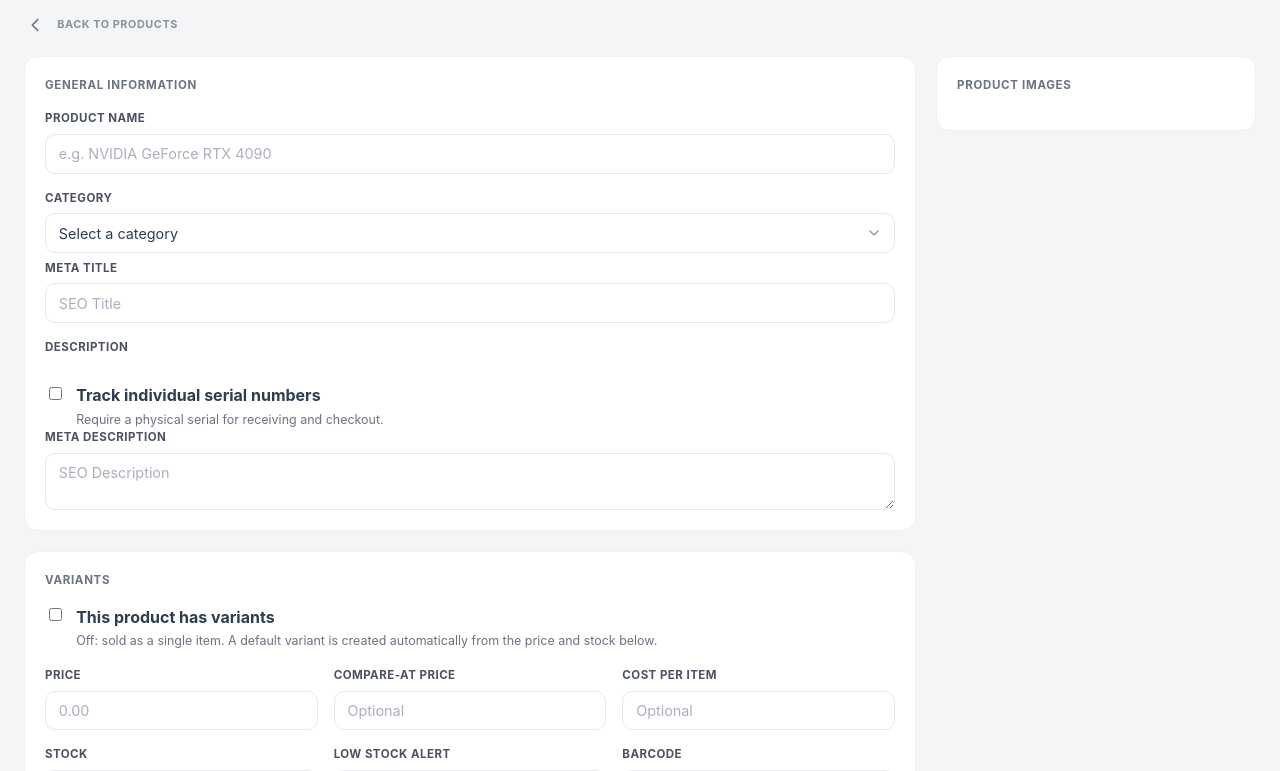
Scenario: ProductFormView default variant › asks for at least one variant once variants are switched on
What coordinates should you click on to do the following:
click the 2nd checkbox
I would click on:
 (56, 615)
Its box is x1=49 y1=608 x2=62 y2=621.
(page scrolled)
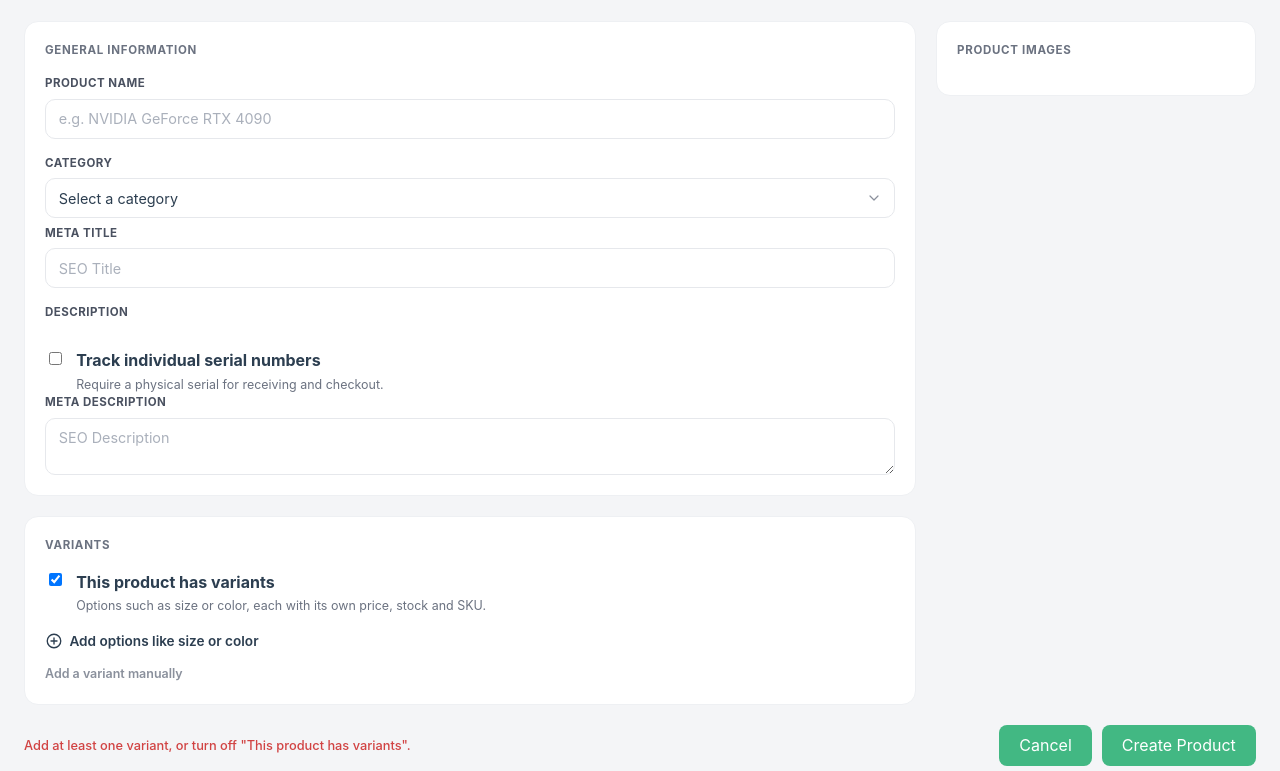
Expected: the button "Create Product" is disabled, x1=1102 y1=724 x2=1256 y2=766
Now the text "Add at least one variant" is shown, box x1=24 y1=738 x2=411 y2=752
